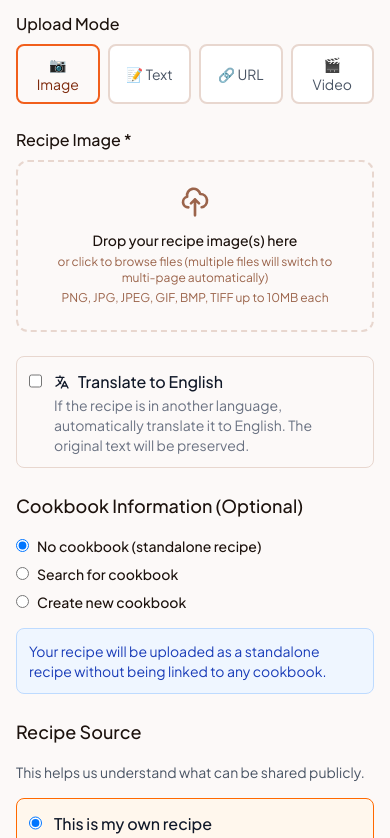
Scenario: UploadForm › Mode Selection › switches to URL mode when URL button clicked
Click the button "🔗 URL": (241, 74) [199,44,282,104]
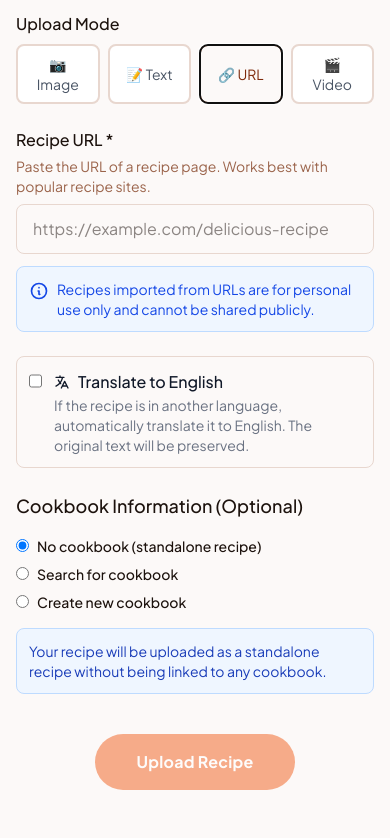
expect the field with placeholder "https://example.com/delicious-recipe" is shown: met, box [16,204,374,254]
